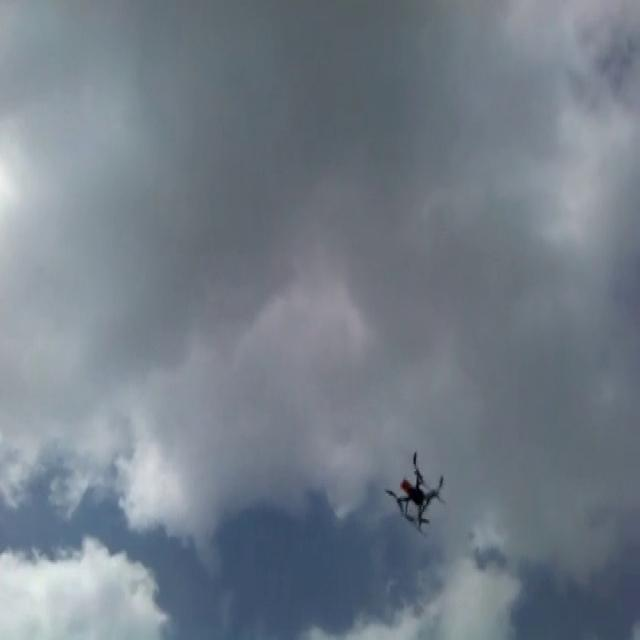drone: (382, 448, 447, 535)
